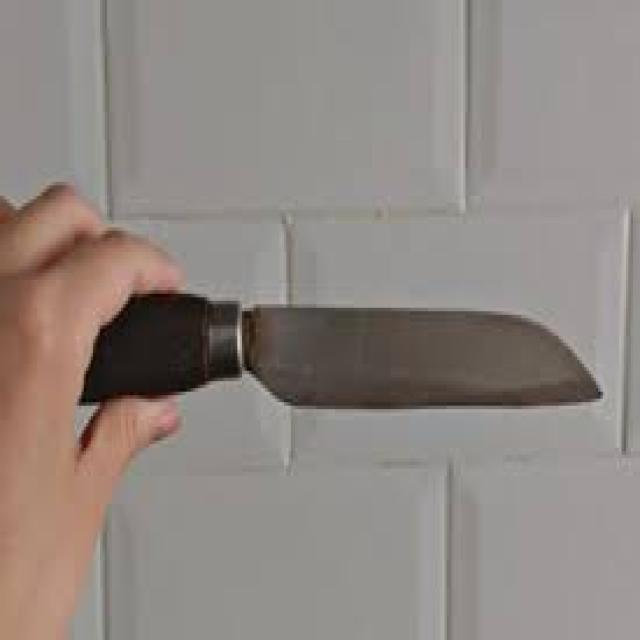Knife: (81, 290, 607, 416)
